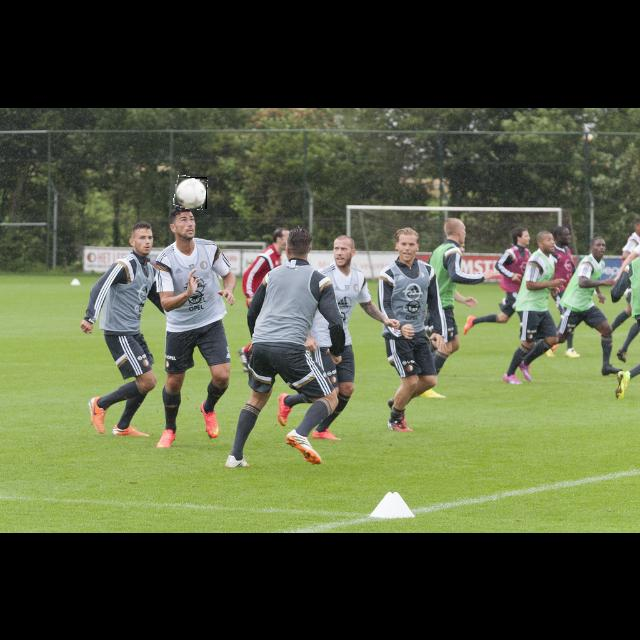Football: (175, 177, 207, 209)
